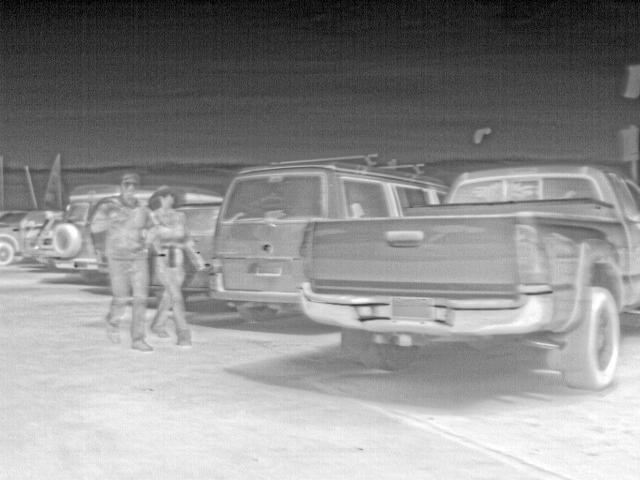car: (297, 160, 639, 392), (206, 152, 451, 323), (52, 181, 121, 286), (0, 208, 67, 265), (173, 199, 223, 269), (30, 215, 60, 271)
person: (91, 167, 150, 352), (149, 181, 196, 349)
